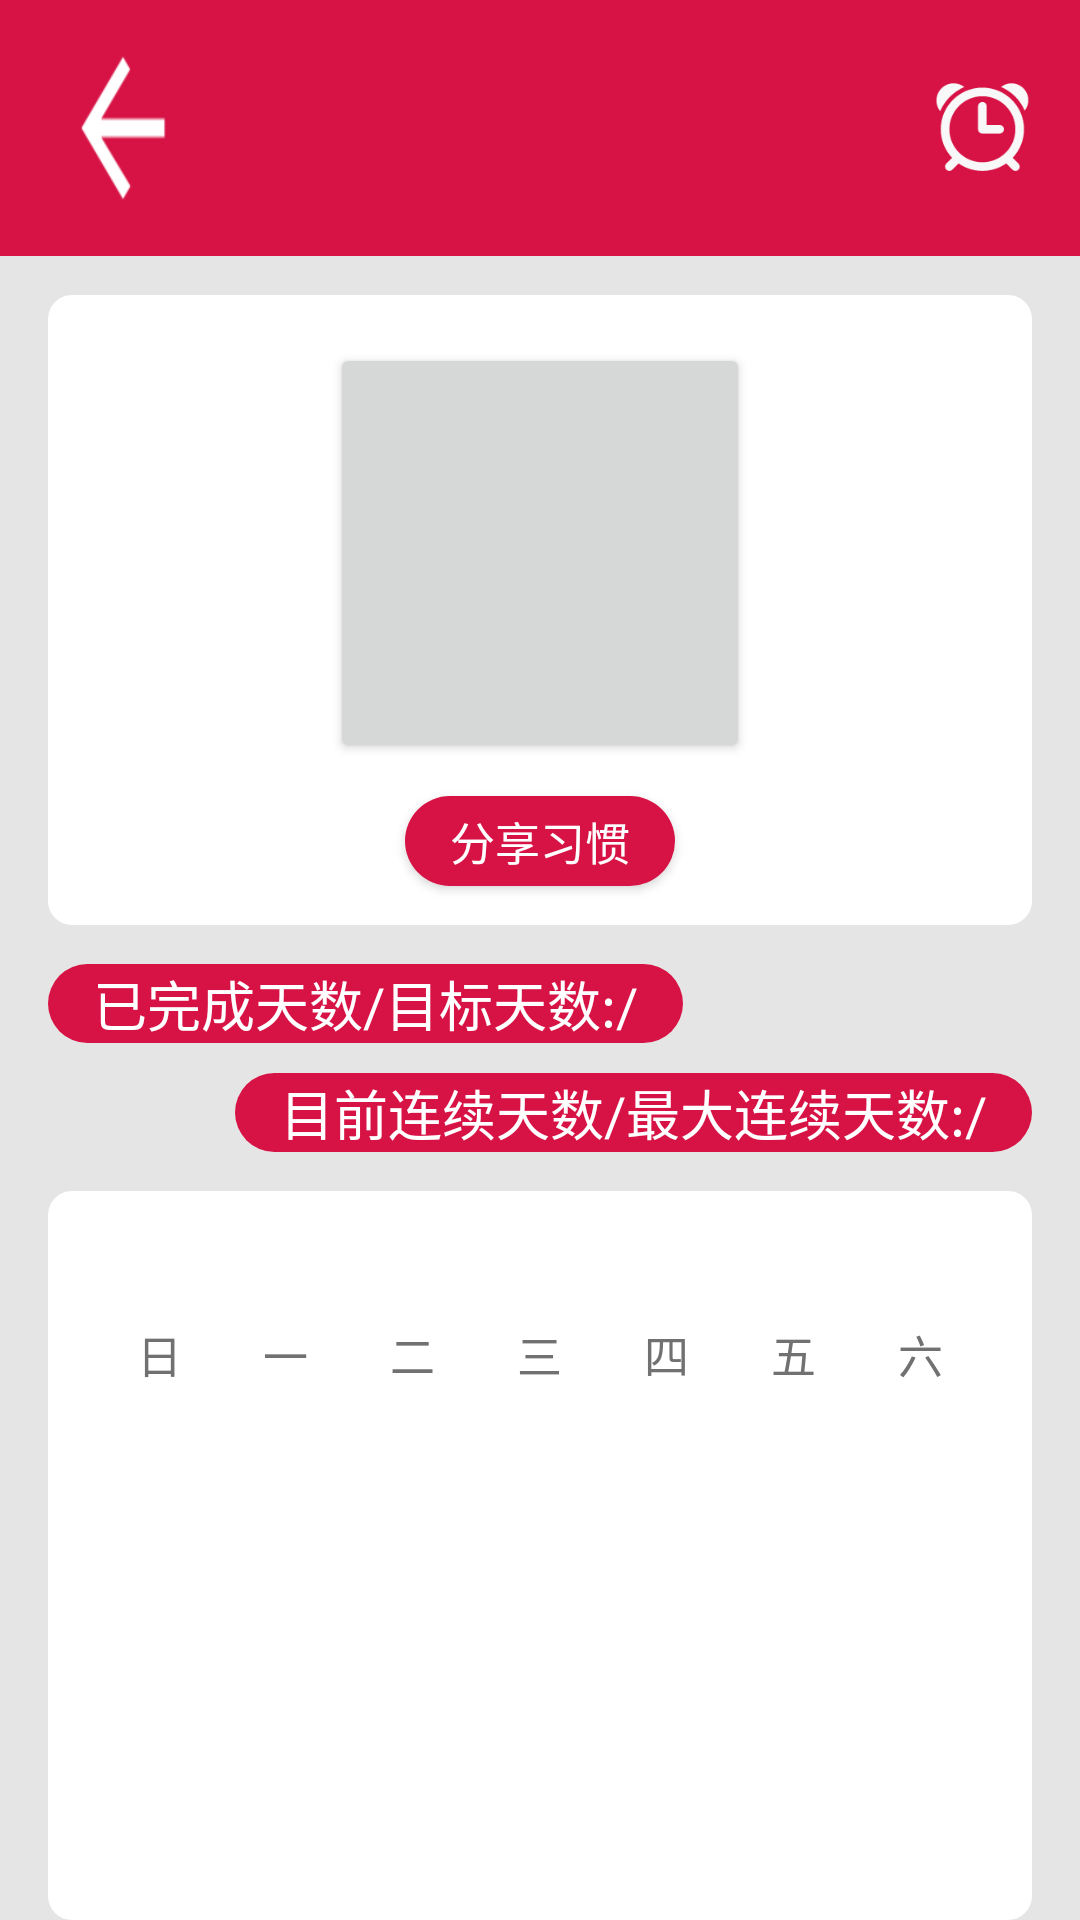

Named icons in this screenshot (1080px x 1920px) and their centers, (x,y):
back: (123,128)
clock: (982,127)
